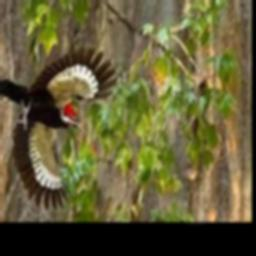Woodpecker: (0, 44, 121, 207)
